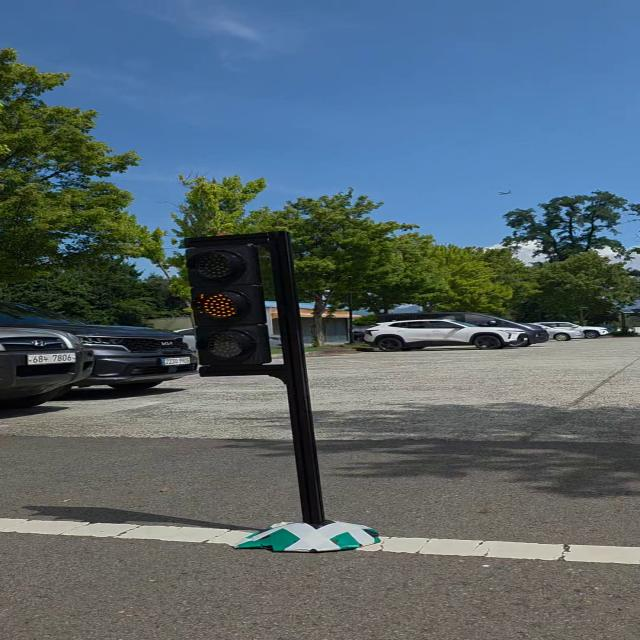yellow: (178, 238, 287, 374)
